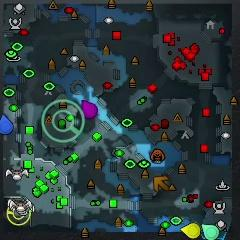p1: (0, 114, 14, 136)
p2: (202, 224, 217, 240)
p3: (82, 100, 98, 119)
p4: (181, 222, 200, 238)
x5: (154, 176, 168, 192)
